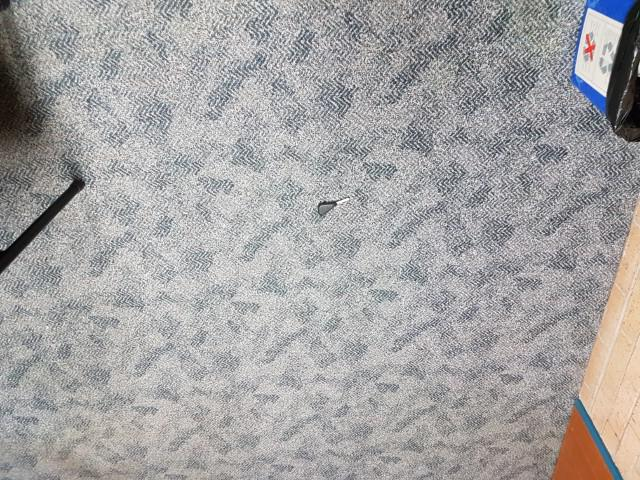key: (317, 195, 351, 219)
